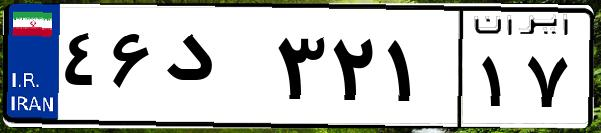1: (385, 28, 445, 110), (475, 38, 525, 113)
2: (330, 28, 385, 110)
3: (270, 28, 330, 110)
4: (57, 26, 110, 100)
6: (110, 28, 158, 98)
7: (525, 38, 570, 115)
د: (158, 20, 270, 120)
